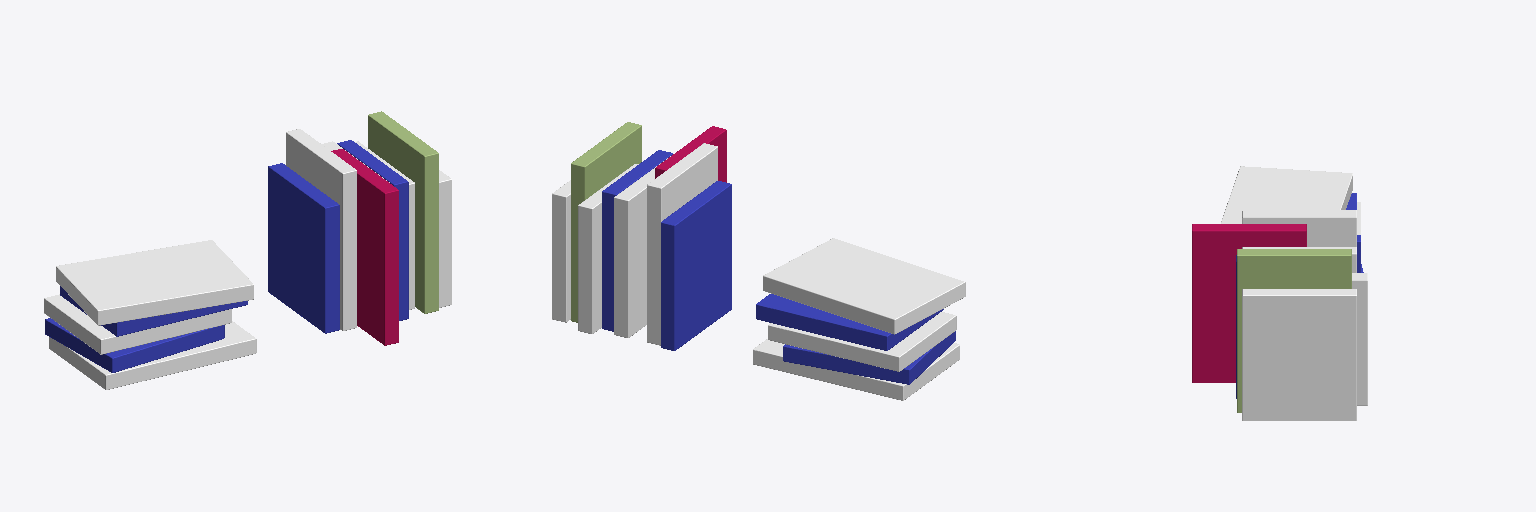
The model's file is book2_2.obj.
3 renders of one model, left to right at view 1: azimuth 30°, elevation 25°; view 2: azimuth 150°, elevation 25°; view 3: azimuth 270°, elevation 25°, orthographic.
Visible parts, largest first — view 1: 立方体.11, 立方体.8, 立方体.6, 立方体.2, 立方体.7, 立方体.15, 立方体.13, 立方体.14, 立方体.4, 立方体.1, 立方体.12, 立方体.3; view 2: 立方体.11, 立方体.8, 立方体.5, 立方体.7, 立方体.2, 立方体.13, 立方体.12, 立方体.3, 立方体.15, 立方体.1, 立方体.14, 立方体.4 (+1 smaller); view 3: 立方体.1, 立方体.6, 立方体.2, 立方体.11, 立方体.7, 立方体.3.
Part boxes in pixels (x1,y1,x2,y2): 立方体.11: (56,240,253,325); 立方体.8: (268,163,339,333); 立方体.6: (331,149,398,345); 立方体.2: (368,111,438,313); 立方体.7: (286,129,356,330); 立方体.15: (49,321,256,389); 立方体.13: (44,294,231,354); 立方体.14: (45,318,224,372); 立方体.4: (337,140,408,320); 立方体.1: (439,170,451,307); 立方体.12: (60,286,247,336); 立方体.3: (355,141,414,309); 立方体.11: (763,238,965,334); 立方体.8: (661,181,731,350); 立方体.5: (614,156,670,337); 立方体.7: (647,143,717,345); 立方体.2: (571,122,641,322); 立方体.13: (768,312,956,371); 立方体.12: (756,294,943,350); 立方体.3: (578,164,638,333); 立方体.15: (753,339,959,400); 立方体.1: (552,180,570,322); 立方体.14: (783,331,955,384); 立方体.4: (602,150,672,331); 立方体.1: (1242,289,1356,420); 立方体.6: (1192,224,1306,382); 立方体.2: (1237,249,1351,412); 立方体.11: (1221,166,1352,223); 立方体.7: (1242,210,1356,246); 立方体.3: (1352,273,1367,405).
Bounding box in the file's own units: 94.47 × 40.26 × 40.43.